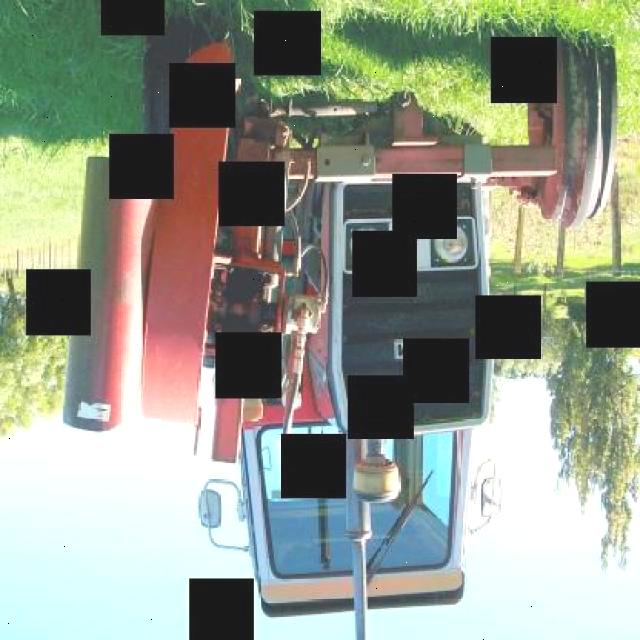Tratores - v5 YOLO V8L 2024-11-13: (107, 0, 640, 637)
